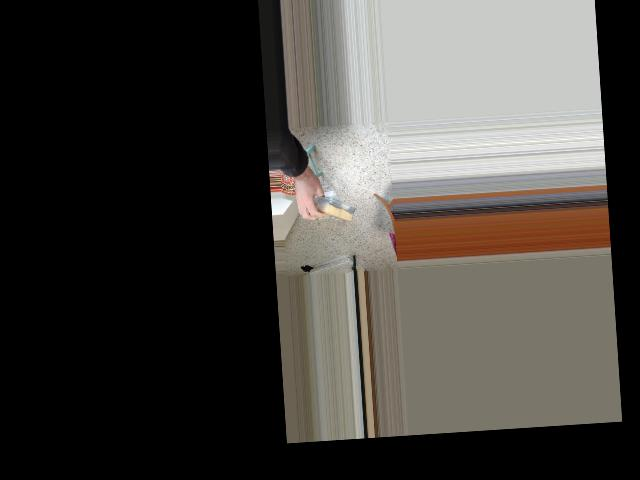cheese: (304, 189, 360, 227)
